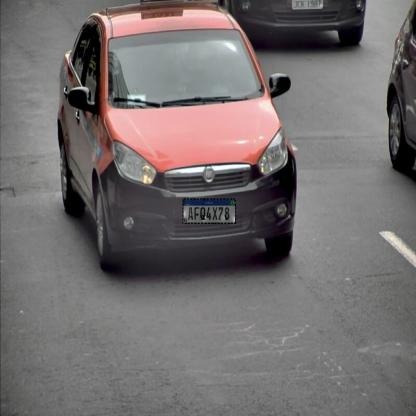PlacaM: (183, 198, 236, 224)
